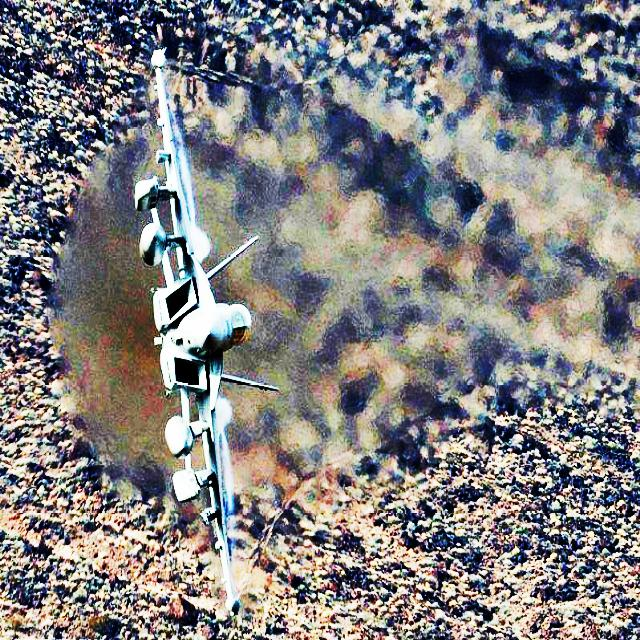Aircraft: (132, 44, 280, 615)
